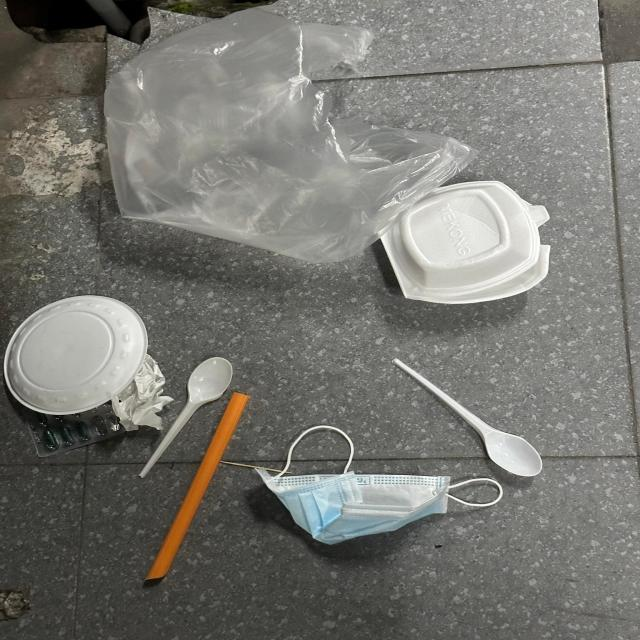bag: (104, 4, 480, 261)
drinking straw: (148, 391, 248, 581)
foam box: (378, 179, 550, 304)
mask: (258, 426, 504, 547)
napkin: (114, 353, 172, 432)
plastic holder: (3, 295, 148, 416)
plastic utensil: (392, 359, 542, 478), (140, 357, 233, 478)
